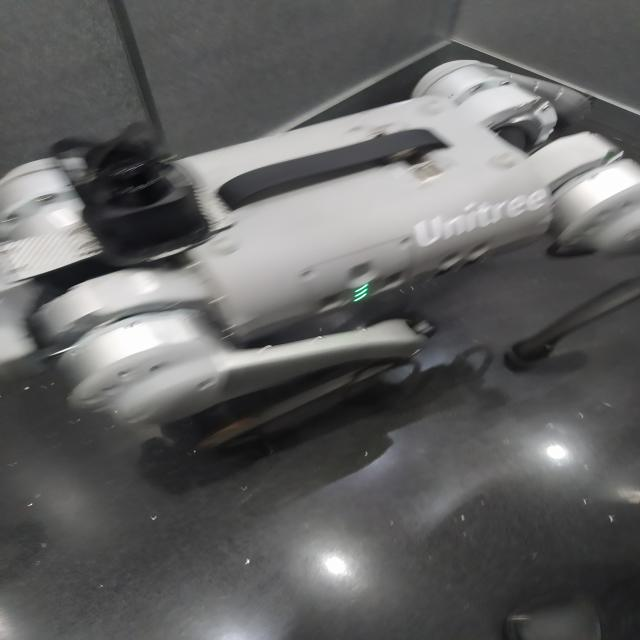unitree-go1-robot: (2, 59, 640, 456)
